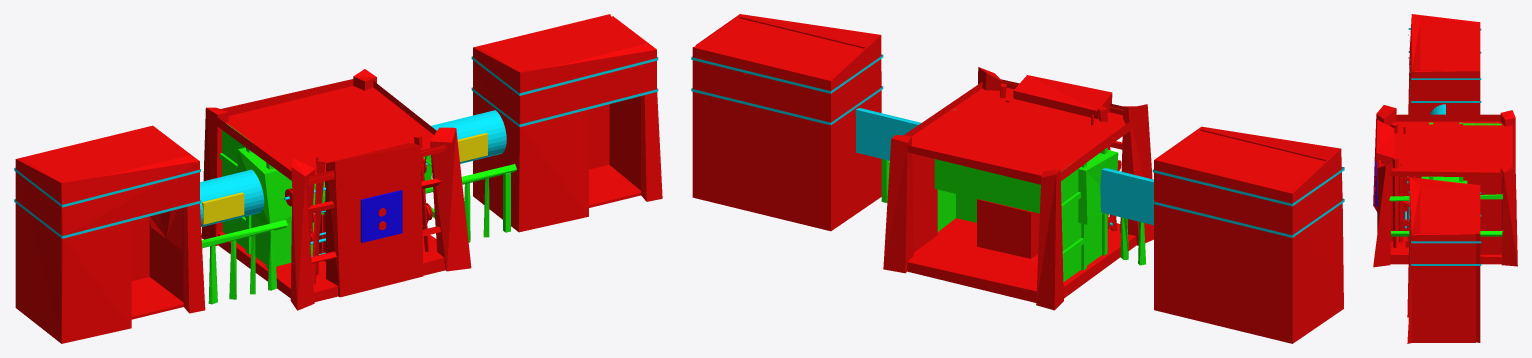
3 views of the same model, side by side, from view 1: azimuth 30°, elevation 25°; view 2: azimuth 150°, elevation 25°; view 3: azimuth 270°, elevation 25° (orthographic). The views are drawn at different scales.
Visible parts, largest first — view 1: 914; view 2: 914; view 3: 914.
Boxes of the visible parts, <box> form: 914: <box>14,14,662,343</box>; 914: <box>691,14,1344,343</box>; 914: <box>1373,14,1517,343</box>.
Bounding box in the file's own units: 18.88 × 4.8 × 5.4.
